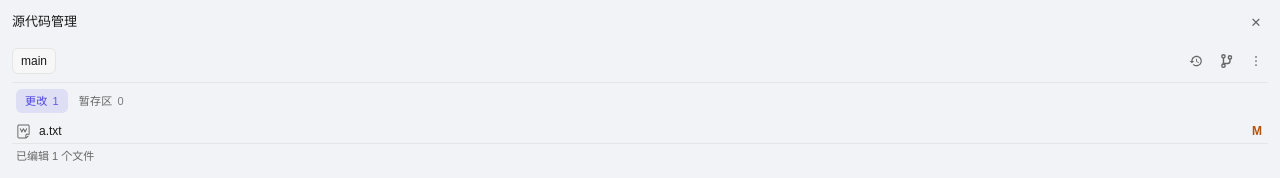
切到空的那一段给一句空态文案
Click the tab with class "git-tab" showing "暂存区 0": x=101, y=101 [70,89,133,113]
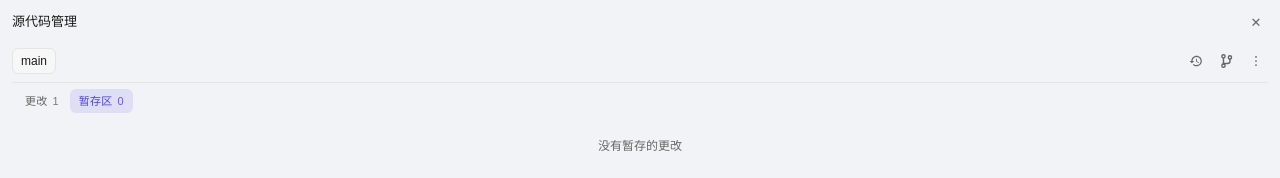
Now the element with class "git-list" is gone
Now the text with class "git-empty" reads "没有暂存的更改", box [598,139,682,153]
